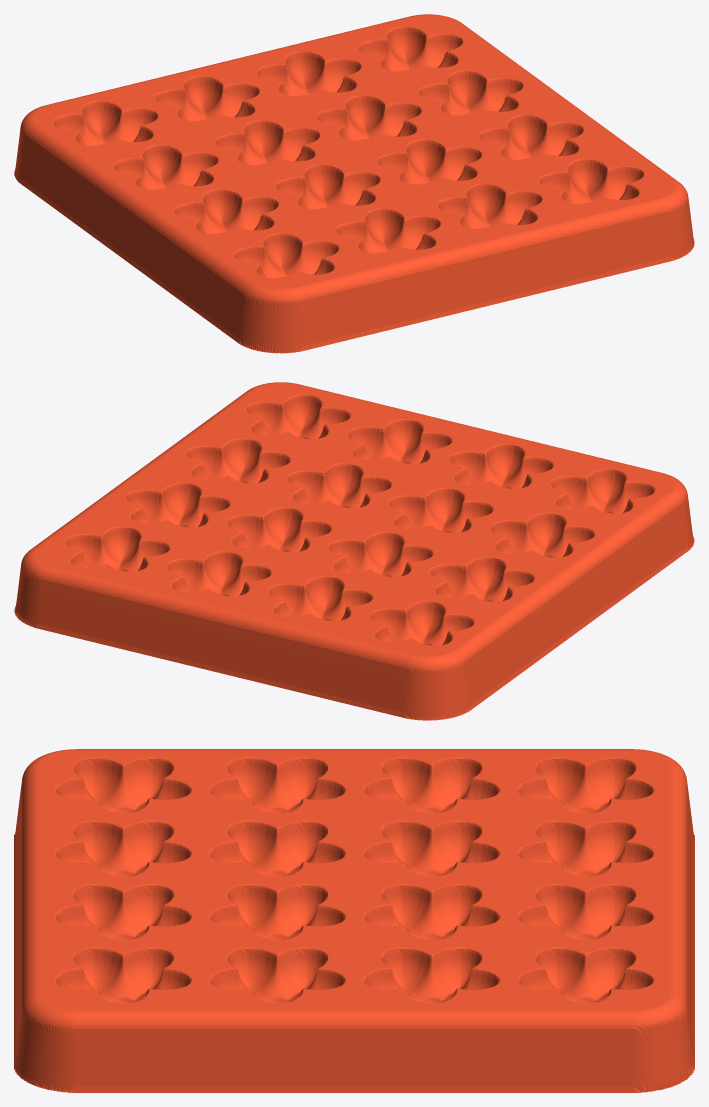
File: mold.glb
The picture shows the model from 3 angles, top to bottom: view 1: azimuth 30°, elevation 25°; view 2: azimuth 150°, elevation 25°; view 3: azimuth 270°, elevation 25°; orthographic projection. The views are drawn at different scales.
Visible parts, largest first — view 1: geometry_0; view 2: geometry_0; view 3: geometry_0.
Part boxes in pixels (<box>): geometry_0: <box>14,14,694,353</box>; geometry_0: <box>14,382,694,720</box>; geometry_0: <box>14,749,694,1092</box>.
Bounding box in the file's own units: 0.0948 × 0.0113 × 0.0972.
